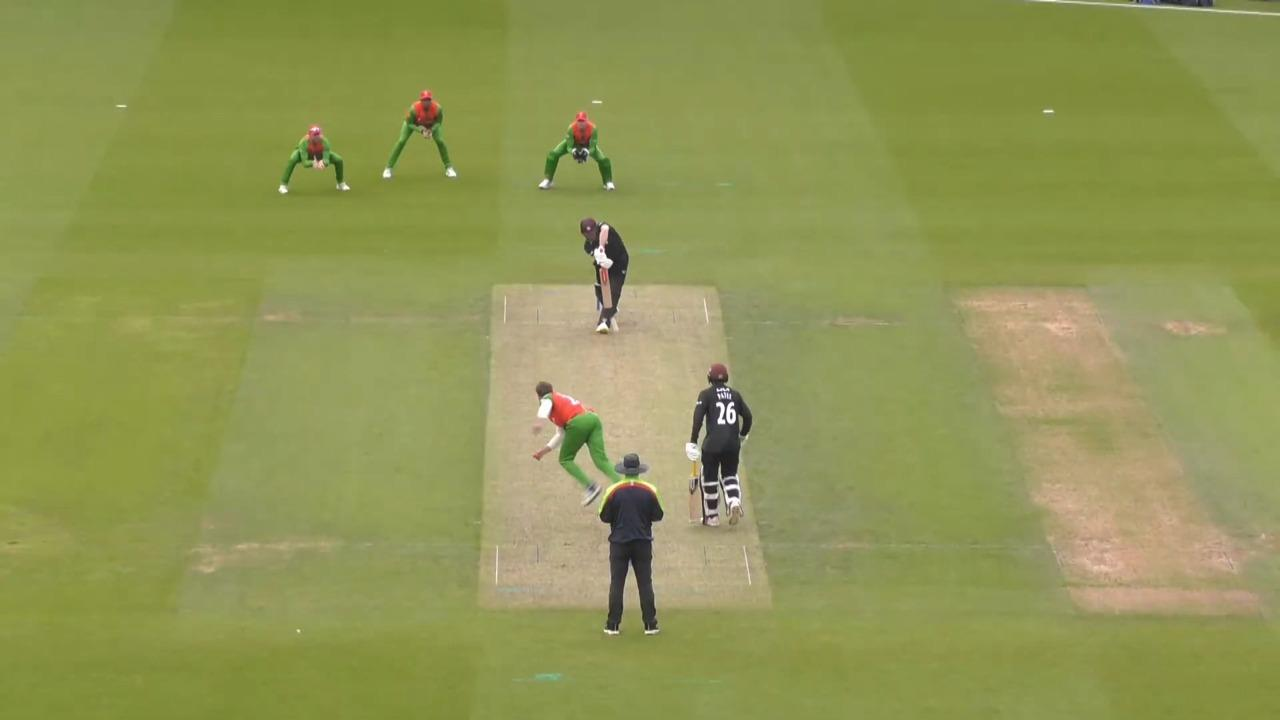sports ball: (611, 318, 619, 331)
